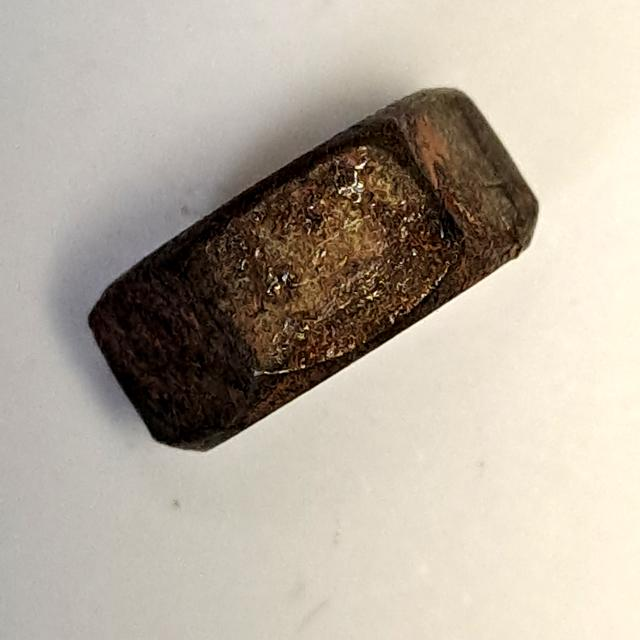Side_Rust: (75, 68, 549, 475)
